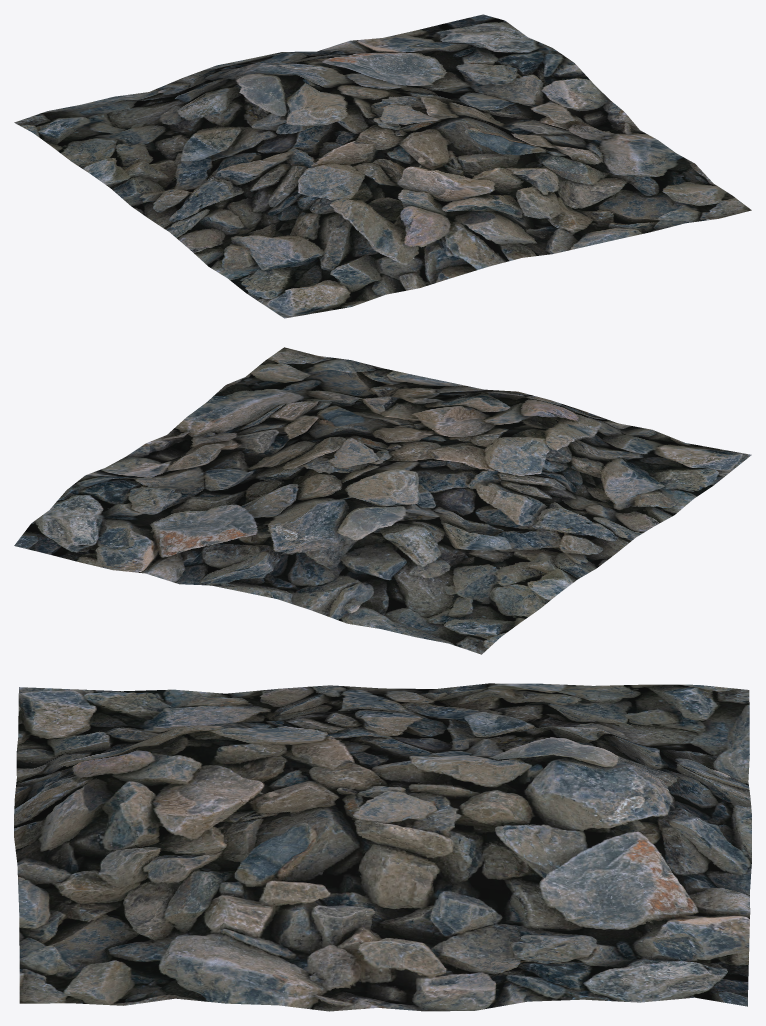
Rendered from Rocks_Plane_1.fbx.
3 views of the same model, one above another, from view 1: azimuth 30°, elevation 25°; view 2: azimuth 150°, elevation 25°; view 3: azimuth 270°, elevation 25° (orthographic). The views are drawn at different scales.
Visible parts, largest first — view 1: Rocks_Plane_1; view 2: Rocks_Plane_1; view 3: Rocks_Plane_1.
Boxes of the visible parts, <box> form: Rocks_Plane_1: <box>14,14,751,318</box>; Rocks_Plane_1: <box>14,347,751,654</box>; Rocks_Plane_1: <box>14,683,751,1011</box>.
Size of the model in its own units: 466 by 55.22 by 461.
1 material, 1 textured.
